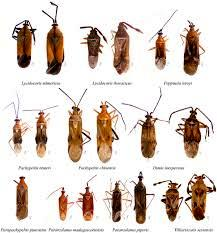Helopeltis-insect: (94, 96, 125, 164), (177, 106, 215, 157), (136, 110, 169, 163), (177, 19, 207, 74), (10, 16, 40, 68), (64, 102, 88, 164), (7, 174, 36, 221), (45, 19, 68, 76), (186, 170, 210, 224), (32, 106, 54, 163), (111, 22, 133, 72), (82, 23, 105, 68), (158, 177, 181, 220), (150, 27, 171, 74), (106, 175, 127, 221), (129, 174, 148, 223), (50, 188, 74, 219), (10, 115, 24, 157), (82, 185, 95, 221)
